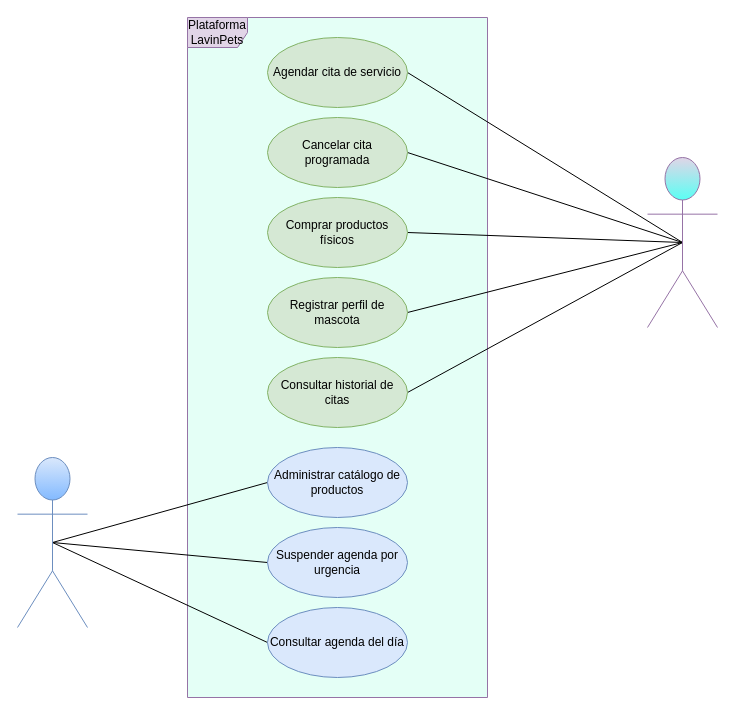
The diagram is 735 pixels wide and 715 high, and some of its shapes have lost their labels. The centre of each missing label's shape, as x and y in pixels:
Cliente: (x=682, y=242)
Veterinaria: (x=52, y=542)
